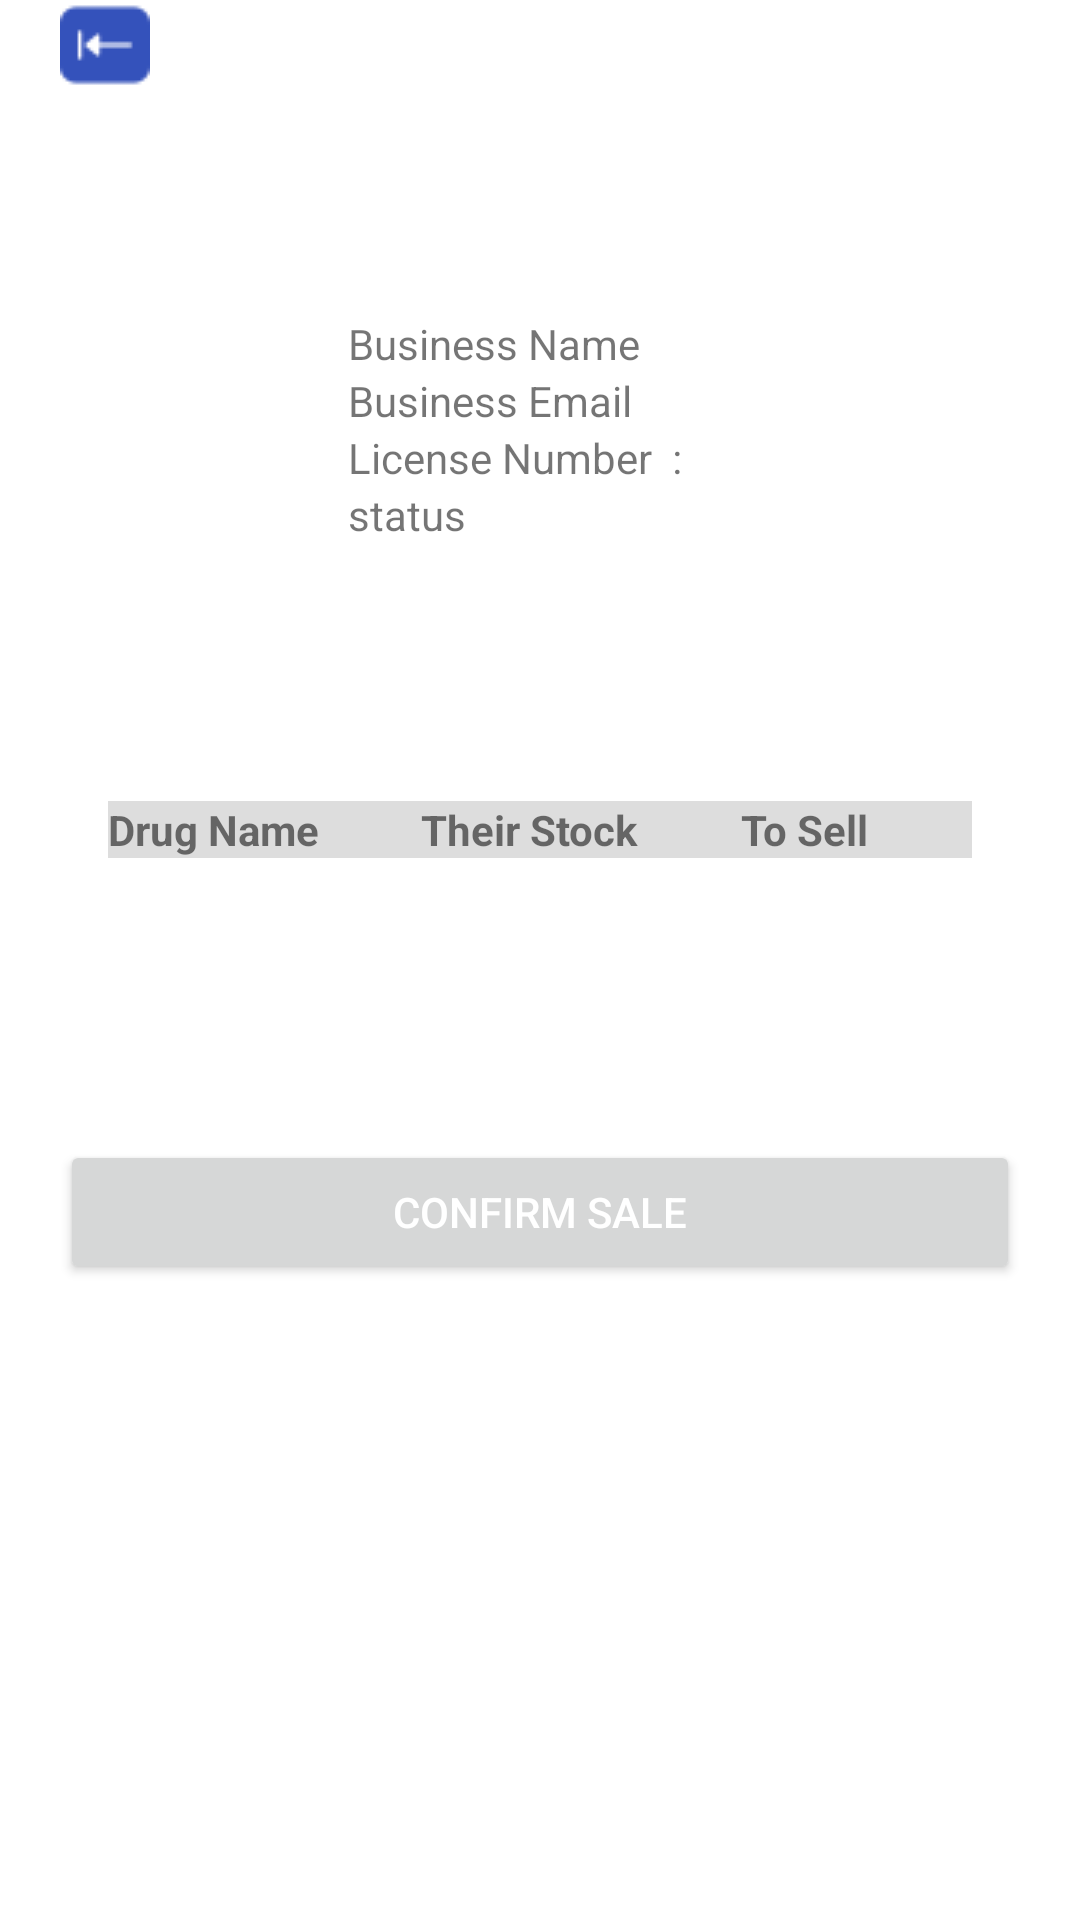

Screen size 1080*1920. Icon name, then its center in pixels as point (x, y):
backbutton: point (105, 45)
